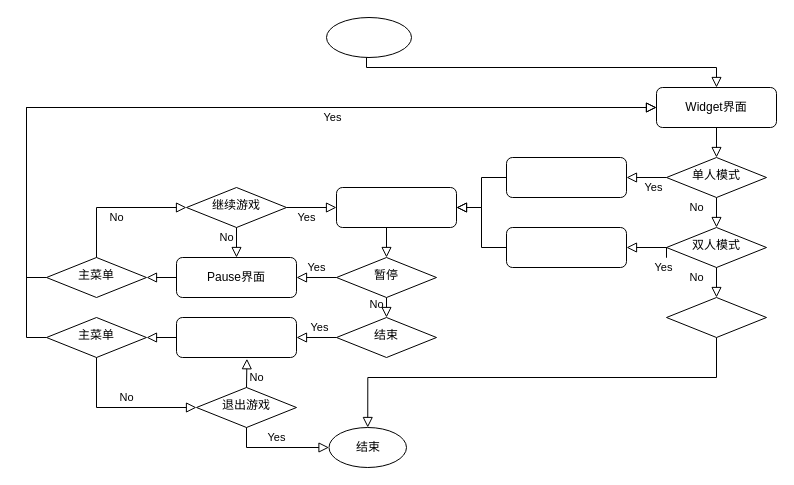
Image size: 794x485. Some labels were removed from this diagram. The shapes that lost their labels are listed below. From the top down, each one's centre as x and y in pixels, then its label:
At point (369, 37): "开始".
At point (566, 177): "Snake界面".
At point (396, 207): "游戏界面".
At point (566, 247): "TwoPlayers界面".
At point (236, 337): "Over界面".
At point (716, 317): "帮助".
